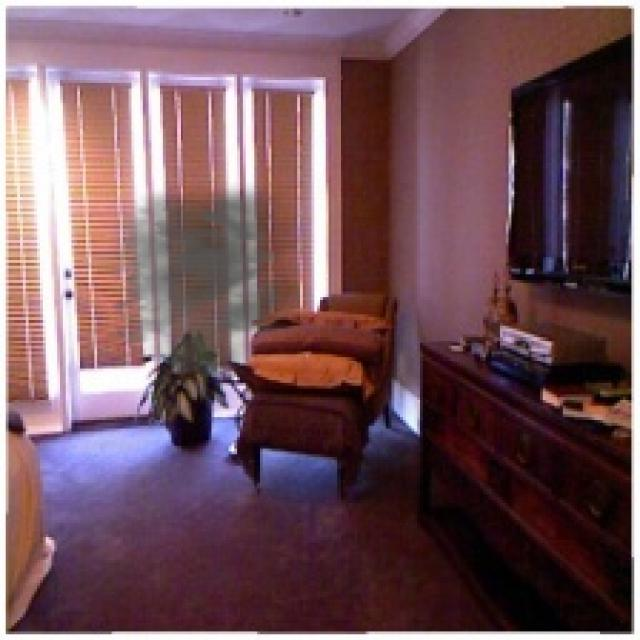smoke: (86, 177, 300, 377)
